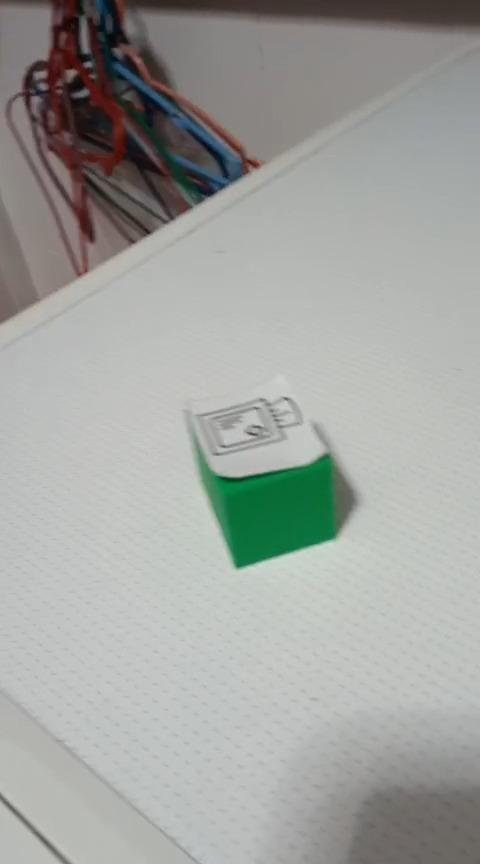Gauze: (183, 374, 339, 569)
